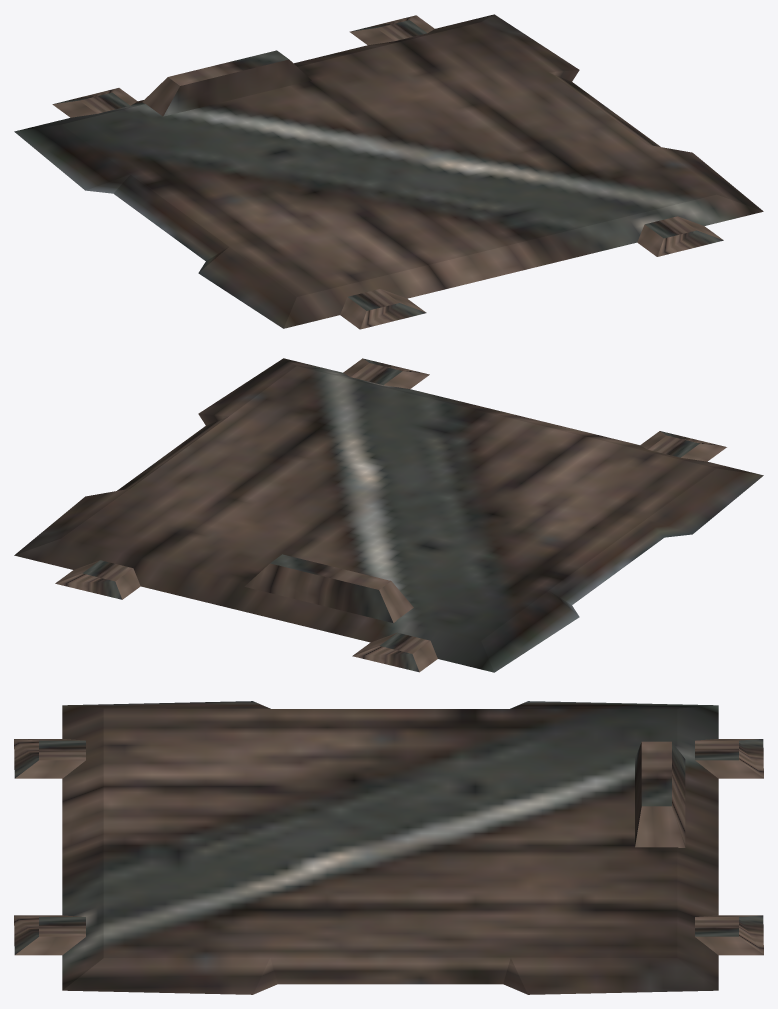
The model's file is SM_EN_1002_dibanzhuan01.FBX.
3 renders of one model, top to bottom at view 1: azimuth 30°, elevation 25°; view 2: azimuth 150°, elevation 25°; view 3: azimuth 270°, elevation 25°, orthographic. The views are drawn at different scales.
Visible parts, largest first — view 1: SM_EN_1002_dibanzhuan01; view 2: SM_EN_1002_dibanzhuan01; view 3: SM_EN_1002_dibanzhuan01.
Boxes of the visible parts, x1,y1,x2,y2 form: SM_EN_1002_dibanzhuan01: [14, 14, 763, 329]; SM_EN_1002_dibanzhuan01: [14, 358, 763, 672]; SM_EN_1002_dibanzhuan01: [14, 701, 763, 994].
Size of the model in its own units: 59.79 by 4.14 by 64.52.
